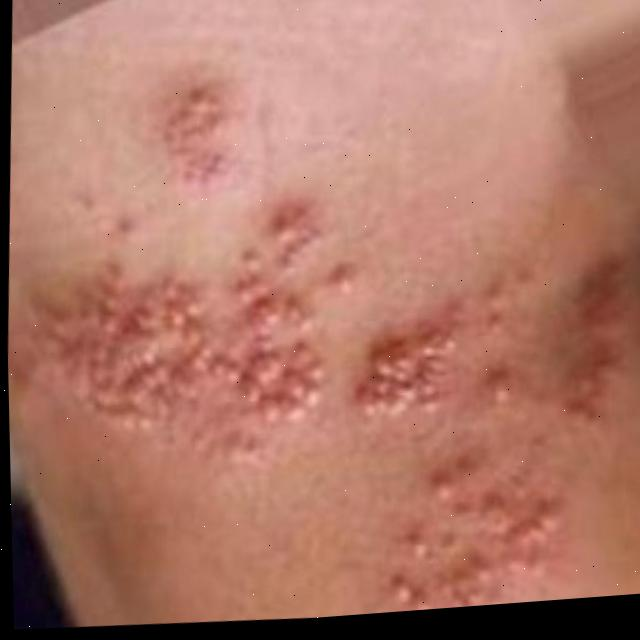Shingles: (3, 62, 350, 464), (348, 259, 636, 615)
